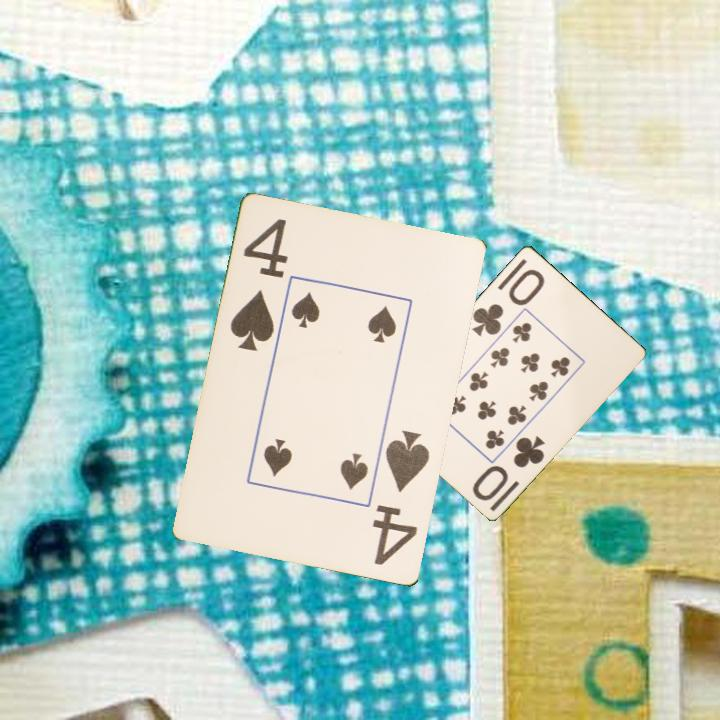10c: (468, 265, 548, 339), (469, 431, 548, 503)
4s: (369, 427, 433, 569), (227, 215, 291, 355)
